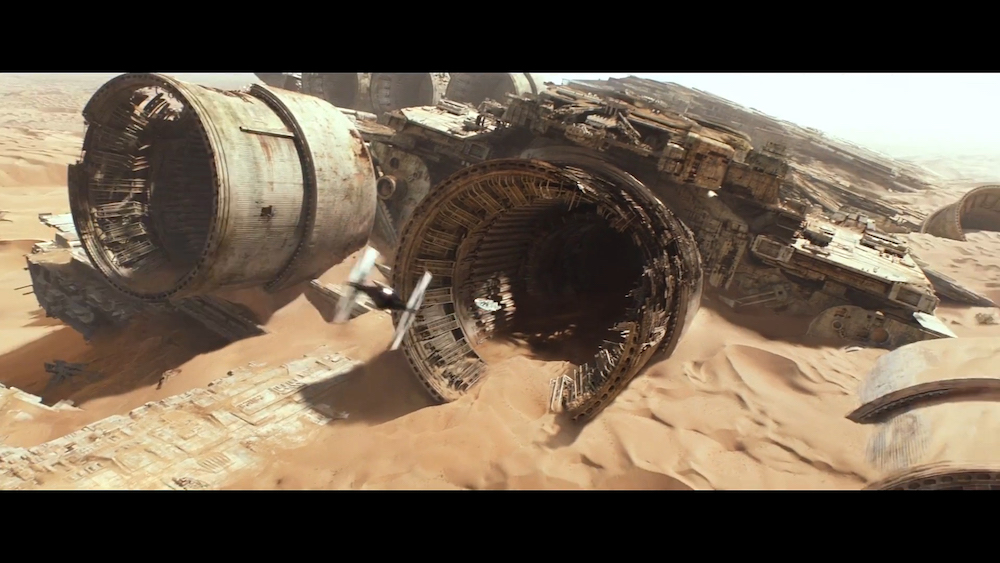Millennium Falcon: (475, 298, 503, 313)
Tie Fighter: (335, 245, 434, 354)
